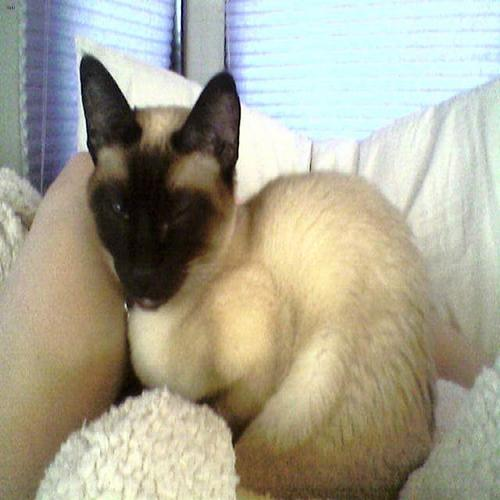siamese: (75, 49, 259, 324)
